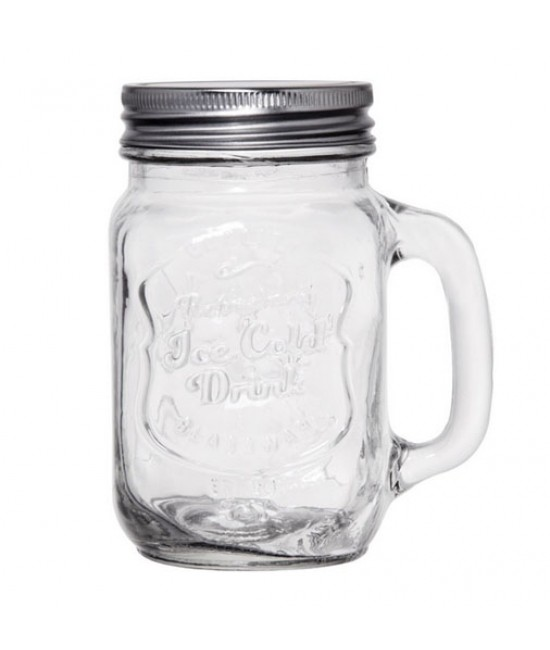glass: (107, 78, 495, 572)
